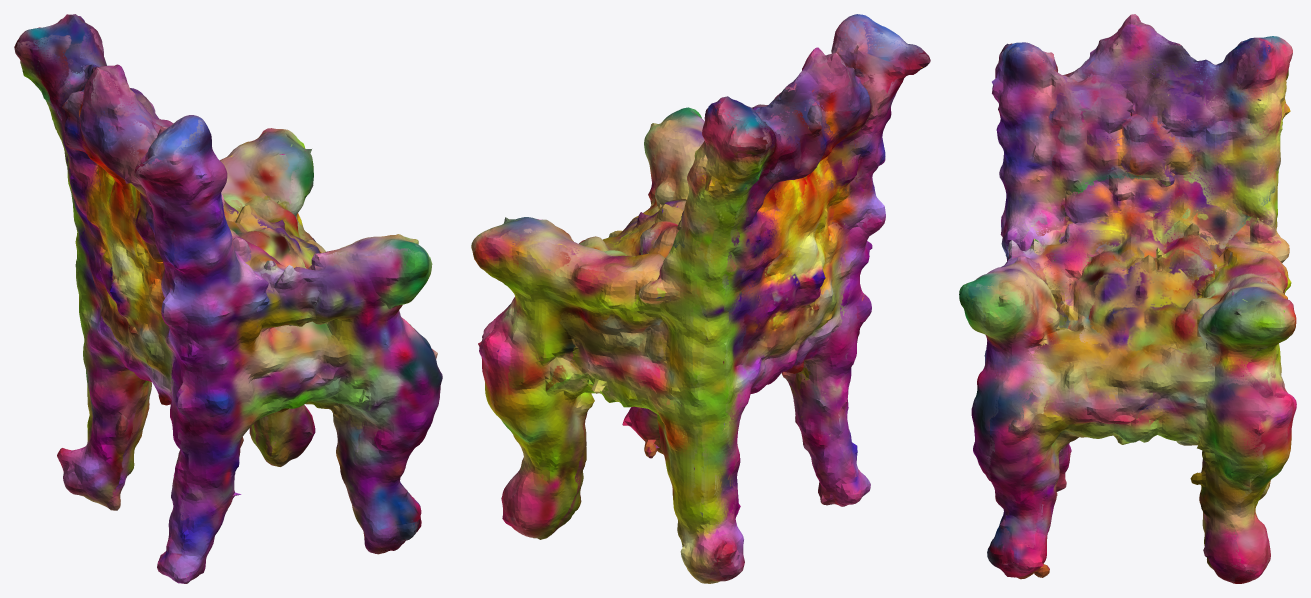
Rendered from fir_chair_t23.glb.
The picture shows the model from 3 angles, left to right: view 1: azimuth 30°, elevation 25°; view 2: azimuth 150°, elevation 25°; view 3: azimuth 270°, elevation 25°; orthographic projection. The views are drawn at different scales.
Size of the model in its own units: 1.4 by 2.11 by 1.39.
Materials: 1 (1 with a texture image).
